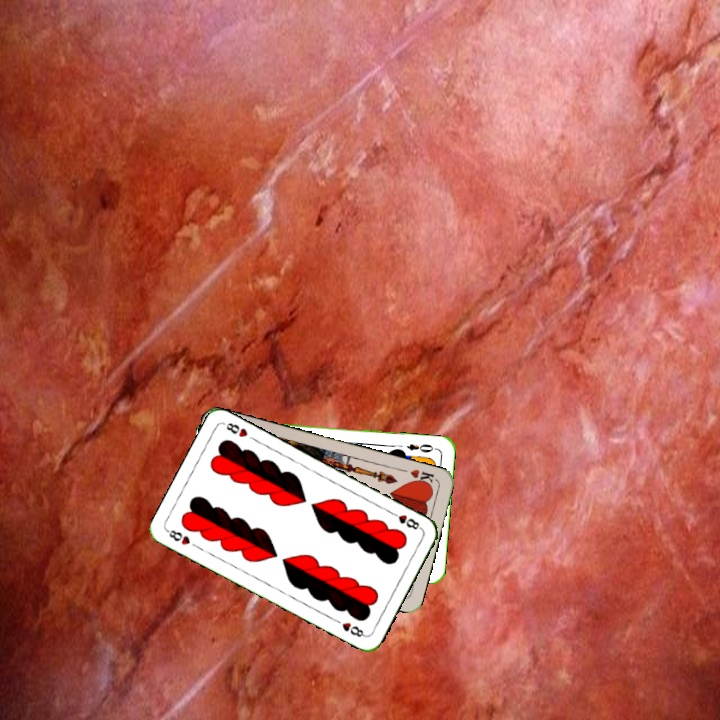EO: (403, 440, 439, 455)
H8: (386, 508, 424, 532), (163, 526, 193, 547)
HK: (406, 465, 438, 489)
